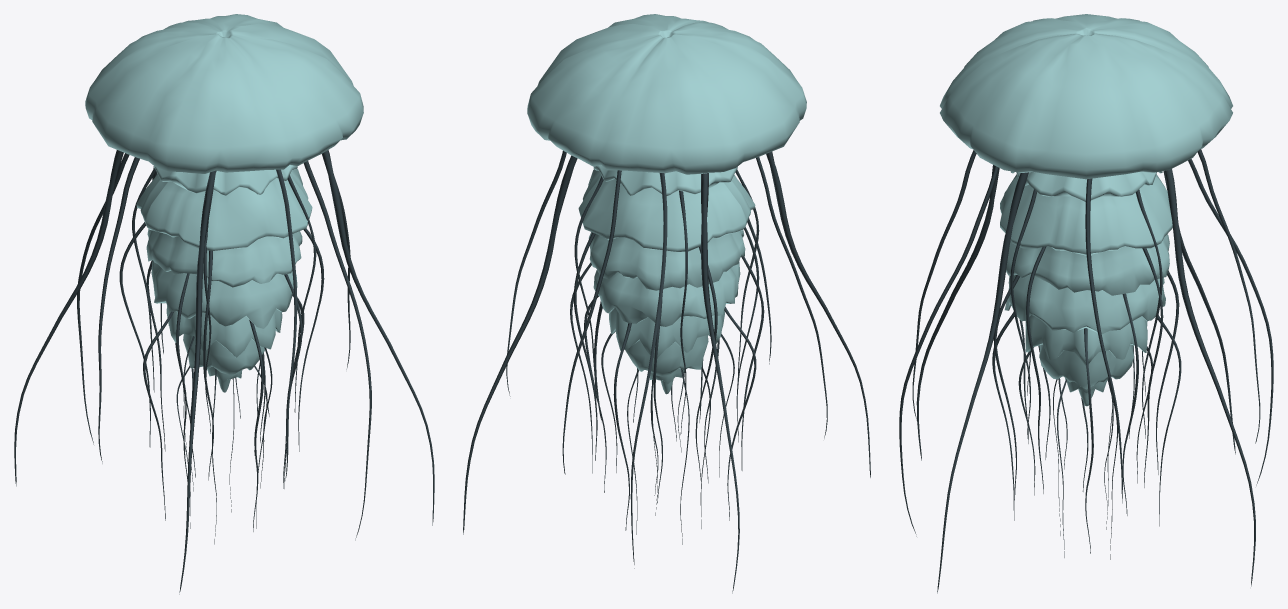
File: Jellyfish_low.fbx
3 renders of one model, left to right at view 1: azimuth 30°, elevation 25°; view 2: azimuth 150°, elevation 25°; view 3: azimuth 270°, elevation 25°, orthographic. The views are drawn at different scales.
Parts seen in each view (by area): view 1: head_low, body_low, tentaculos_low; view 2: head_low, body_low, tentaculos_low; view 3: head_low, body_low, tentaculos_low.
Part boxes in pixels (x1,y1,x2,y2): head_low: (85,14,363,173); body_low: (136,165,312,392); tentaculos_low: (14,150,434,594); head_low: (527,14,806,174); body_low: (578,165,755,394); tentaculos_low: (463,150,870,593); head_low: (940,14,1232,179); body_low: (1000,171,1172,406); tentaculos_low: (899,149,1273,593).
Bounding box in the file's own units: 23.3 × 38.82 × 25.37.
